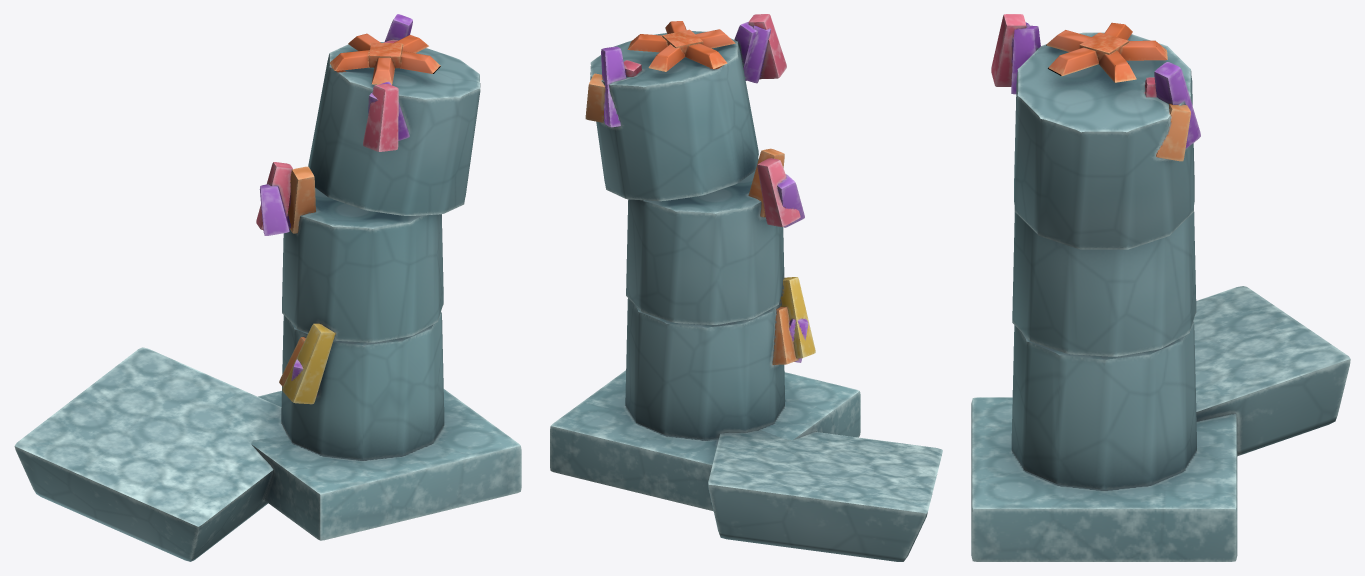
Rendered from Abysses_ColonneEngloutie.fbx.
3 renders of one model, left to right at view 1: azimuth 30°, elevation 25°; view 2: azimuth 150°, elevation 25°; view 3: azimuth 270°, elevation 25°, orthographic. The views are drawn at different scales.
Visible parts, largest first — view 1: Abysses_ColonneEngloutie; view 2: Abysses_ColonneEngloutie; view 3: Abysses_ColonneEngloutie.
Part boxes in pixels (bbox=[...]): Abysses_ColonneEngloutie: bbox=[14, 14, 521, 561]; Abysses_ColonneEngloutie: bbox=[550, 14, 942, 561]; Abysses_ColonneEngloutie: bbox=[971, 14, 1350, 561].
Bounding box in the file's own units: 856 × 926 × 627.
1 material, 1 textured.
